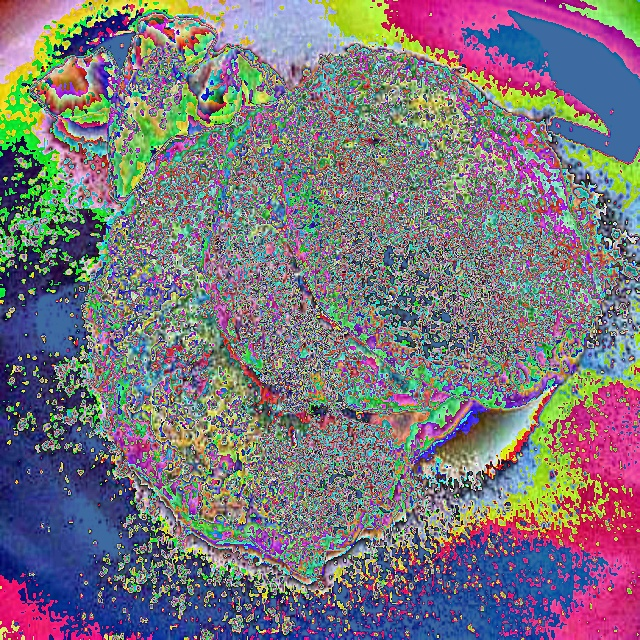background: (29, 13, 622, 581)
